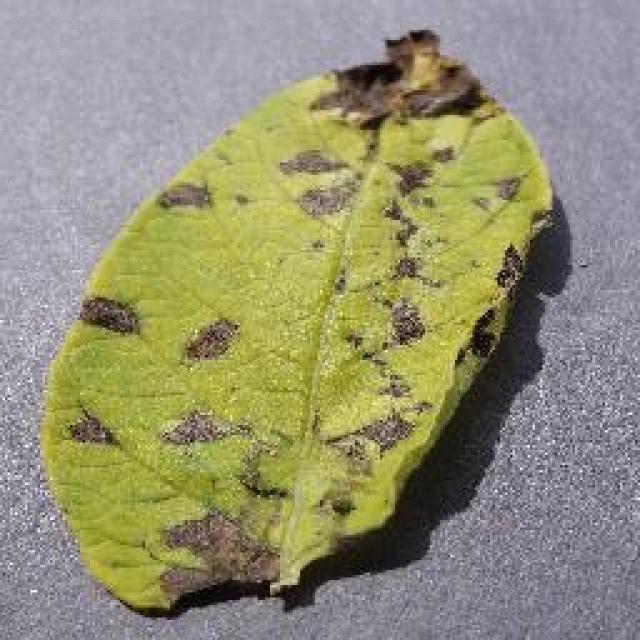early_blight: (32, 25, 560, 620)
